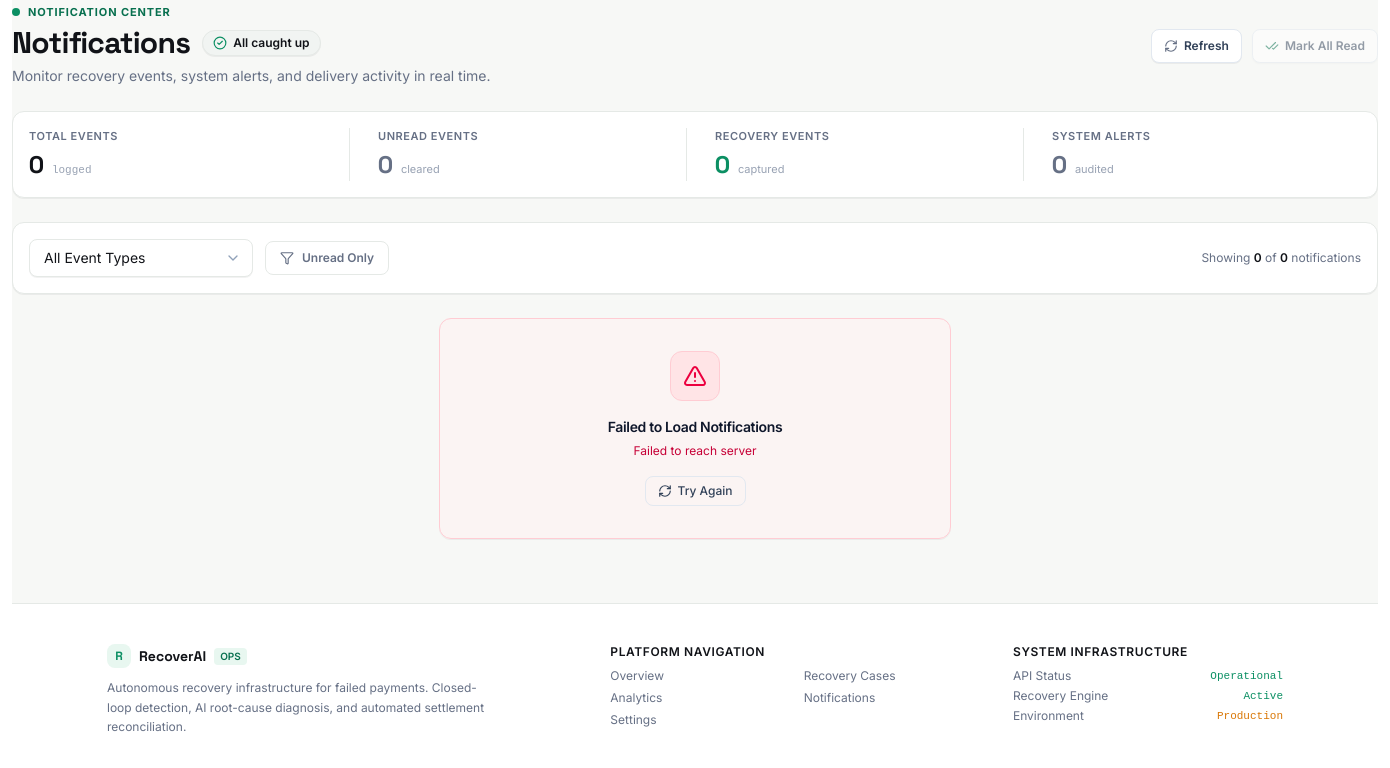
Test: NotificationsPage › renders error state and retries on failure
Expected: the heading "Failed to Load Notifications" is shown, [608,417,782,437]
Expected: the text "Failed to reach server" is shown, [634,443,756,458]
Click the button "Try Again" at coordinates (695, 491), box [644,476,746,506]
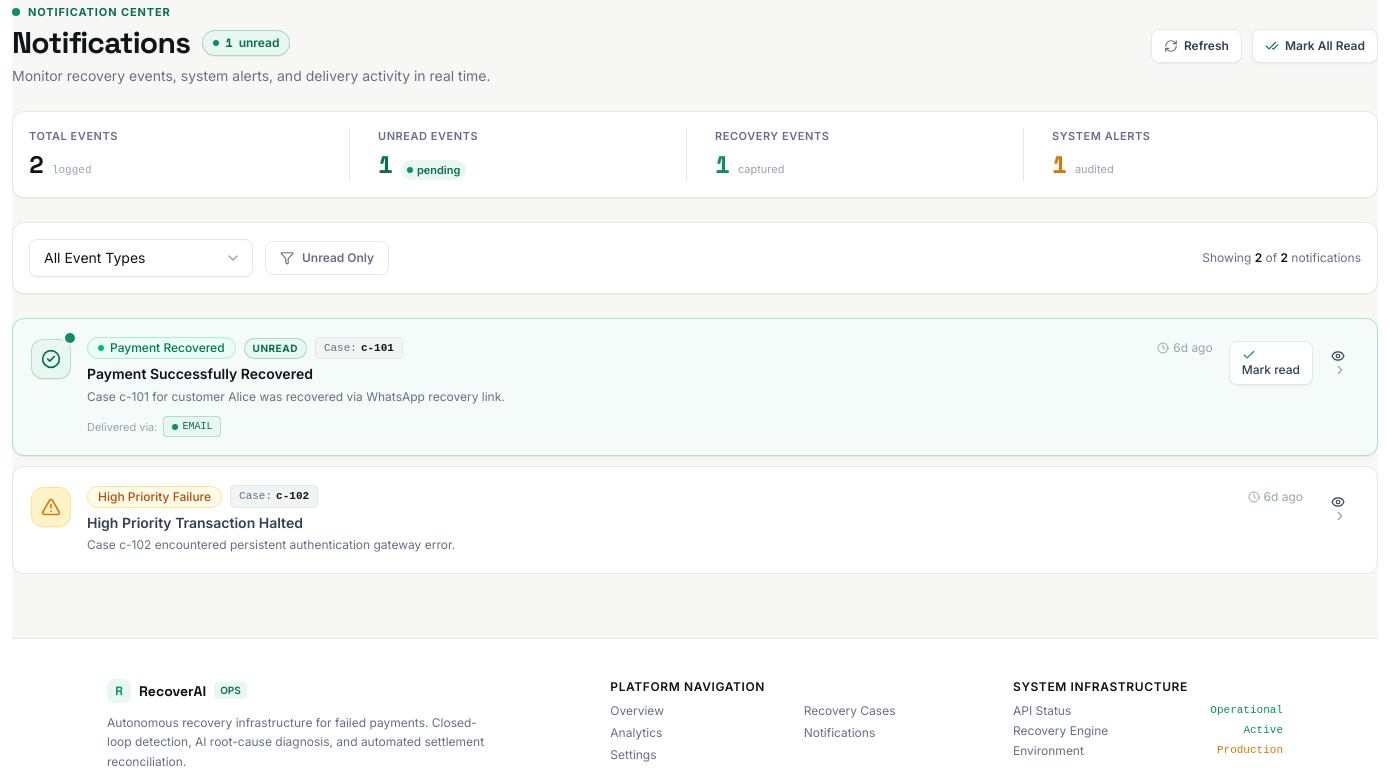
Result: the heading "Payment Successfully Recovered" is shown at [87,365,313,382]
